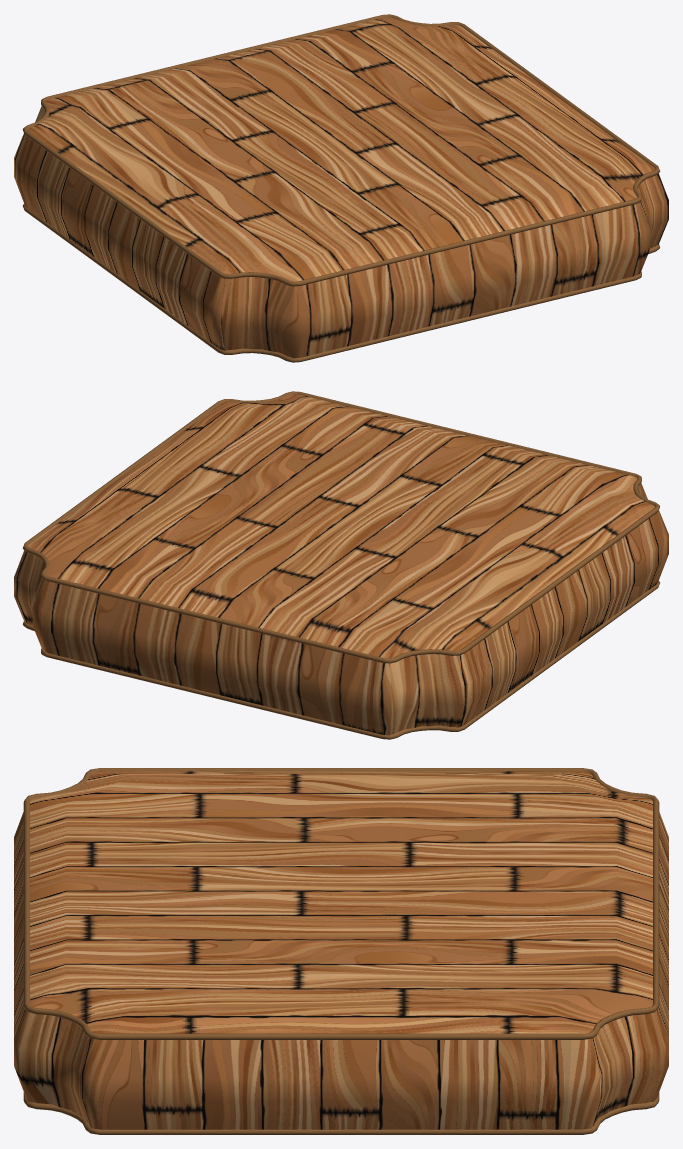
File: SM_FoamFloor_1x1.fbx
3 renders of one model, top to bottom at view 1: azimuth 30°, elevation 25°; view 2: azimuth 150°, elevation 25°; view 3: azimuth 270°, elevation 25°, orthographic. The views are drawn at different scales.
Parts seen in each view (by area): view 1: SM_SoftFoam_Floor_20cm_1x1; view 2: SM_SoftFoam_Floor_20cm_1x1; view 3: SM_SoftFoam_Floor_20cm_1x1.
Part boxes in pixels (x1,y1,x2,y2): SM_SoftFoam_Floor_20cm_1x1: (14,14,668,362); SM_SoftFoam_Floor_20cm_1x1: (14,391,668,739); SM_SoftFoam_Floor_20cm_1x1: (14,768,668,1134).
Size of the model in its own units: 100 by 20 by 100.
